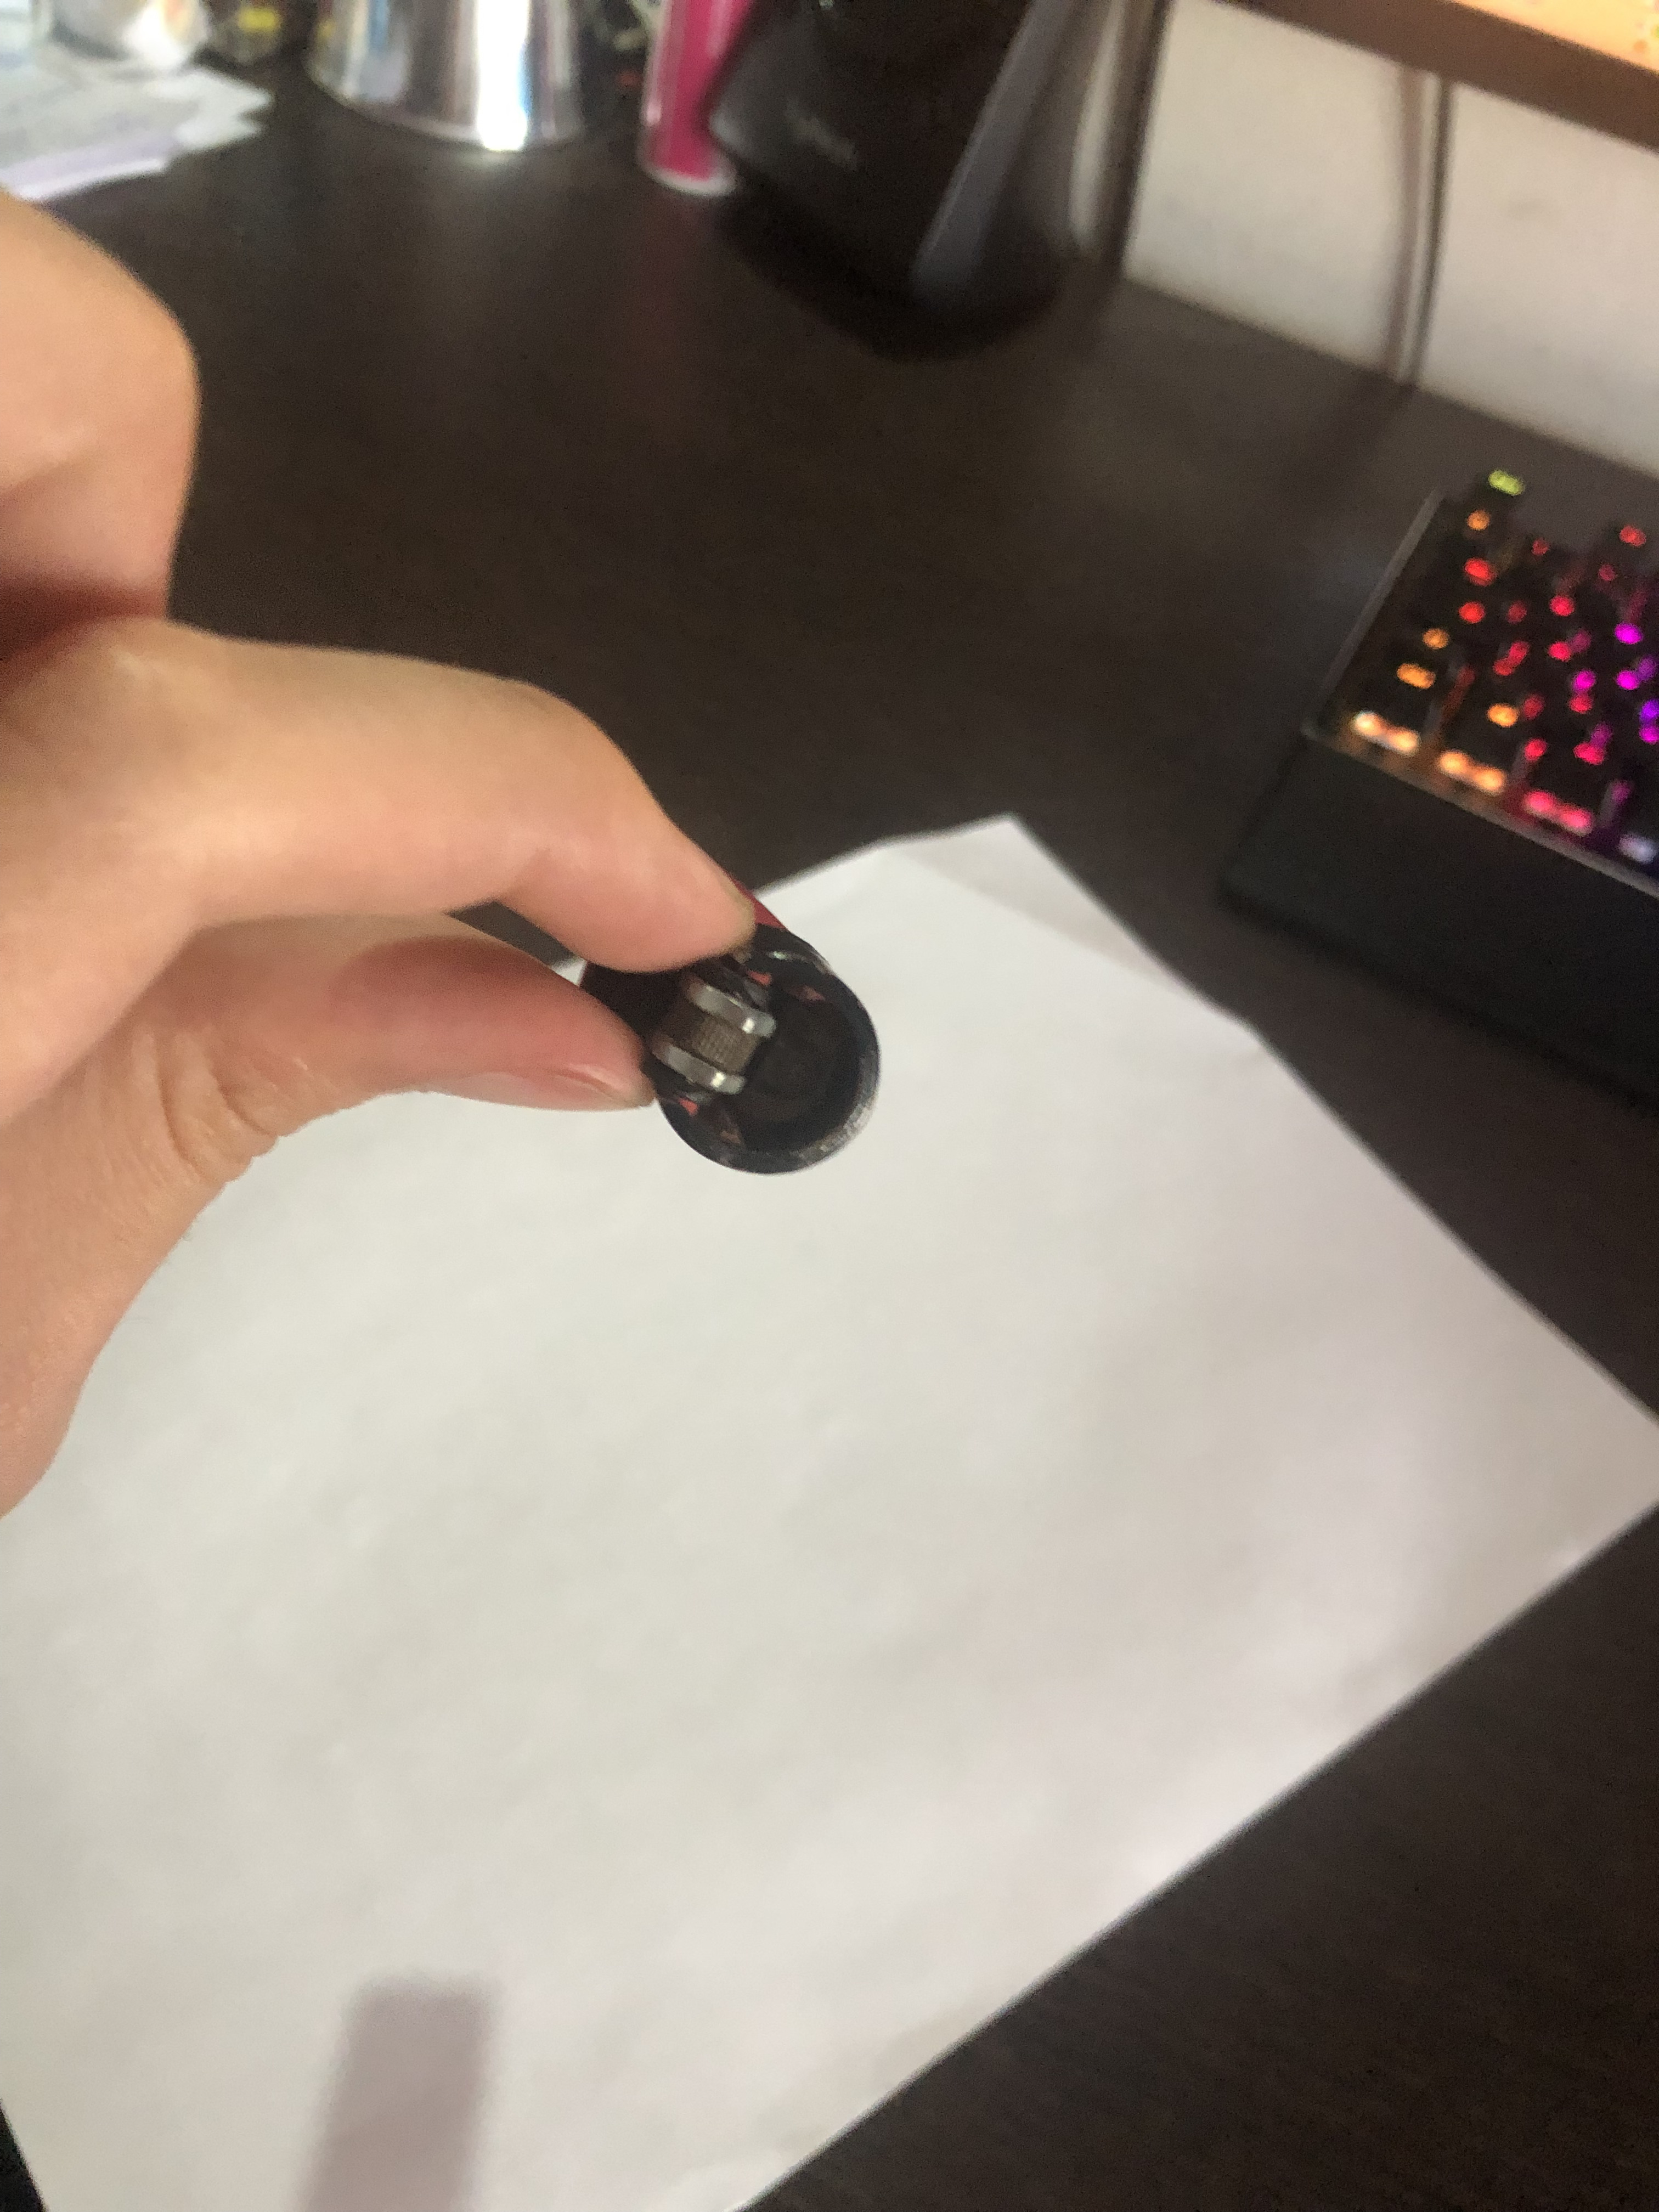Mechero: (561, 894, 901, 1211)
